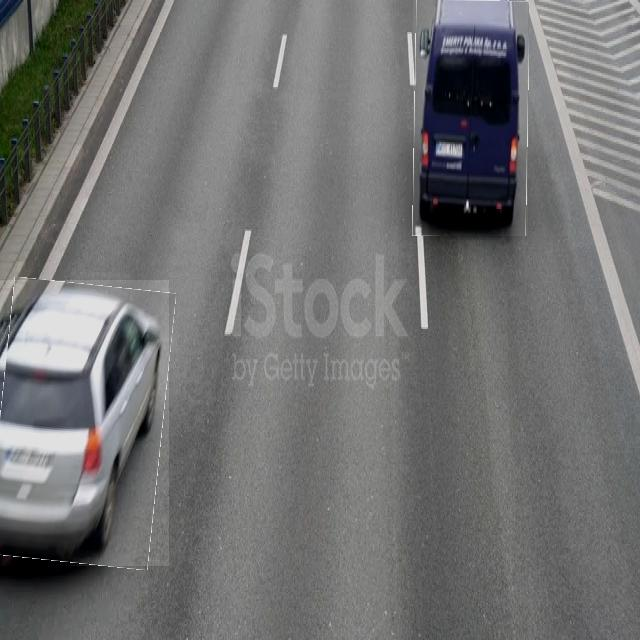Car: (0, 280, 169, 566)
Truck: (413, 0, 528, 236)
